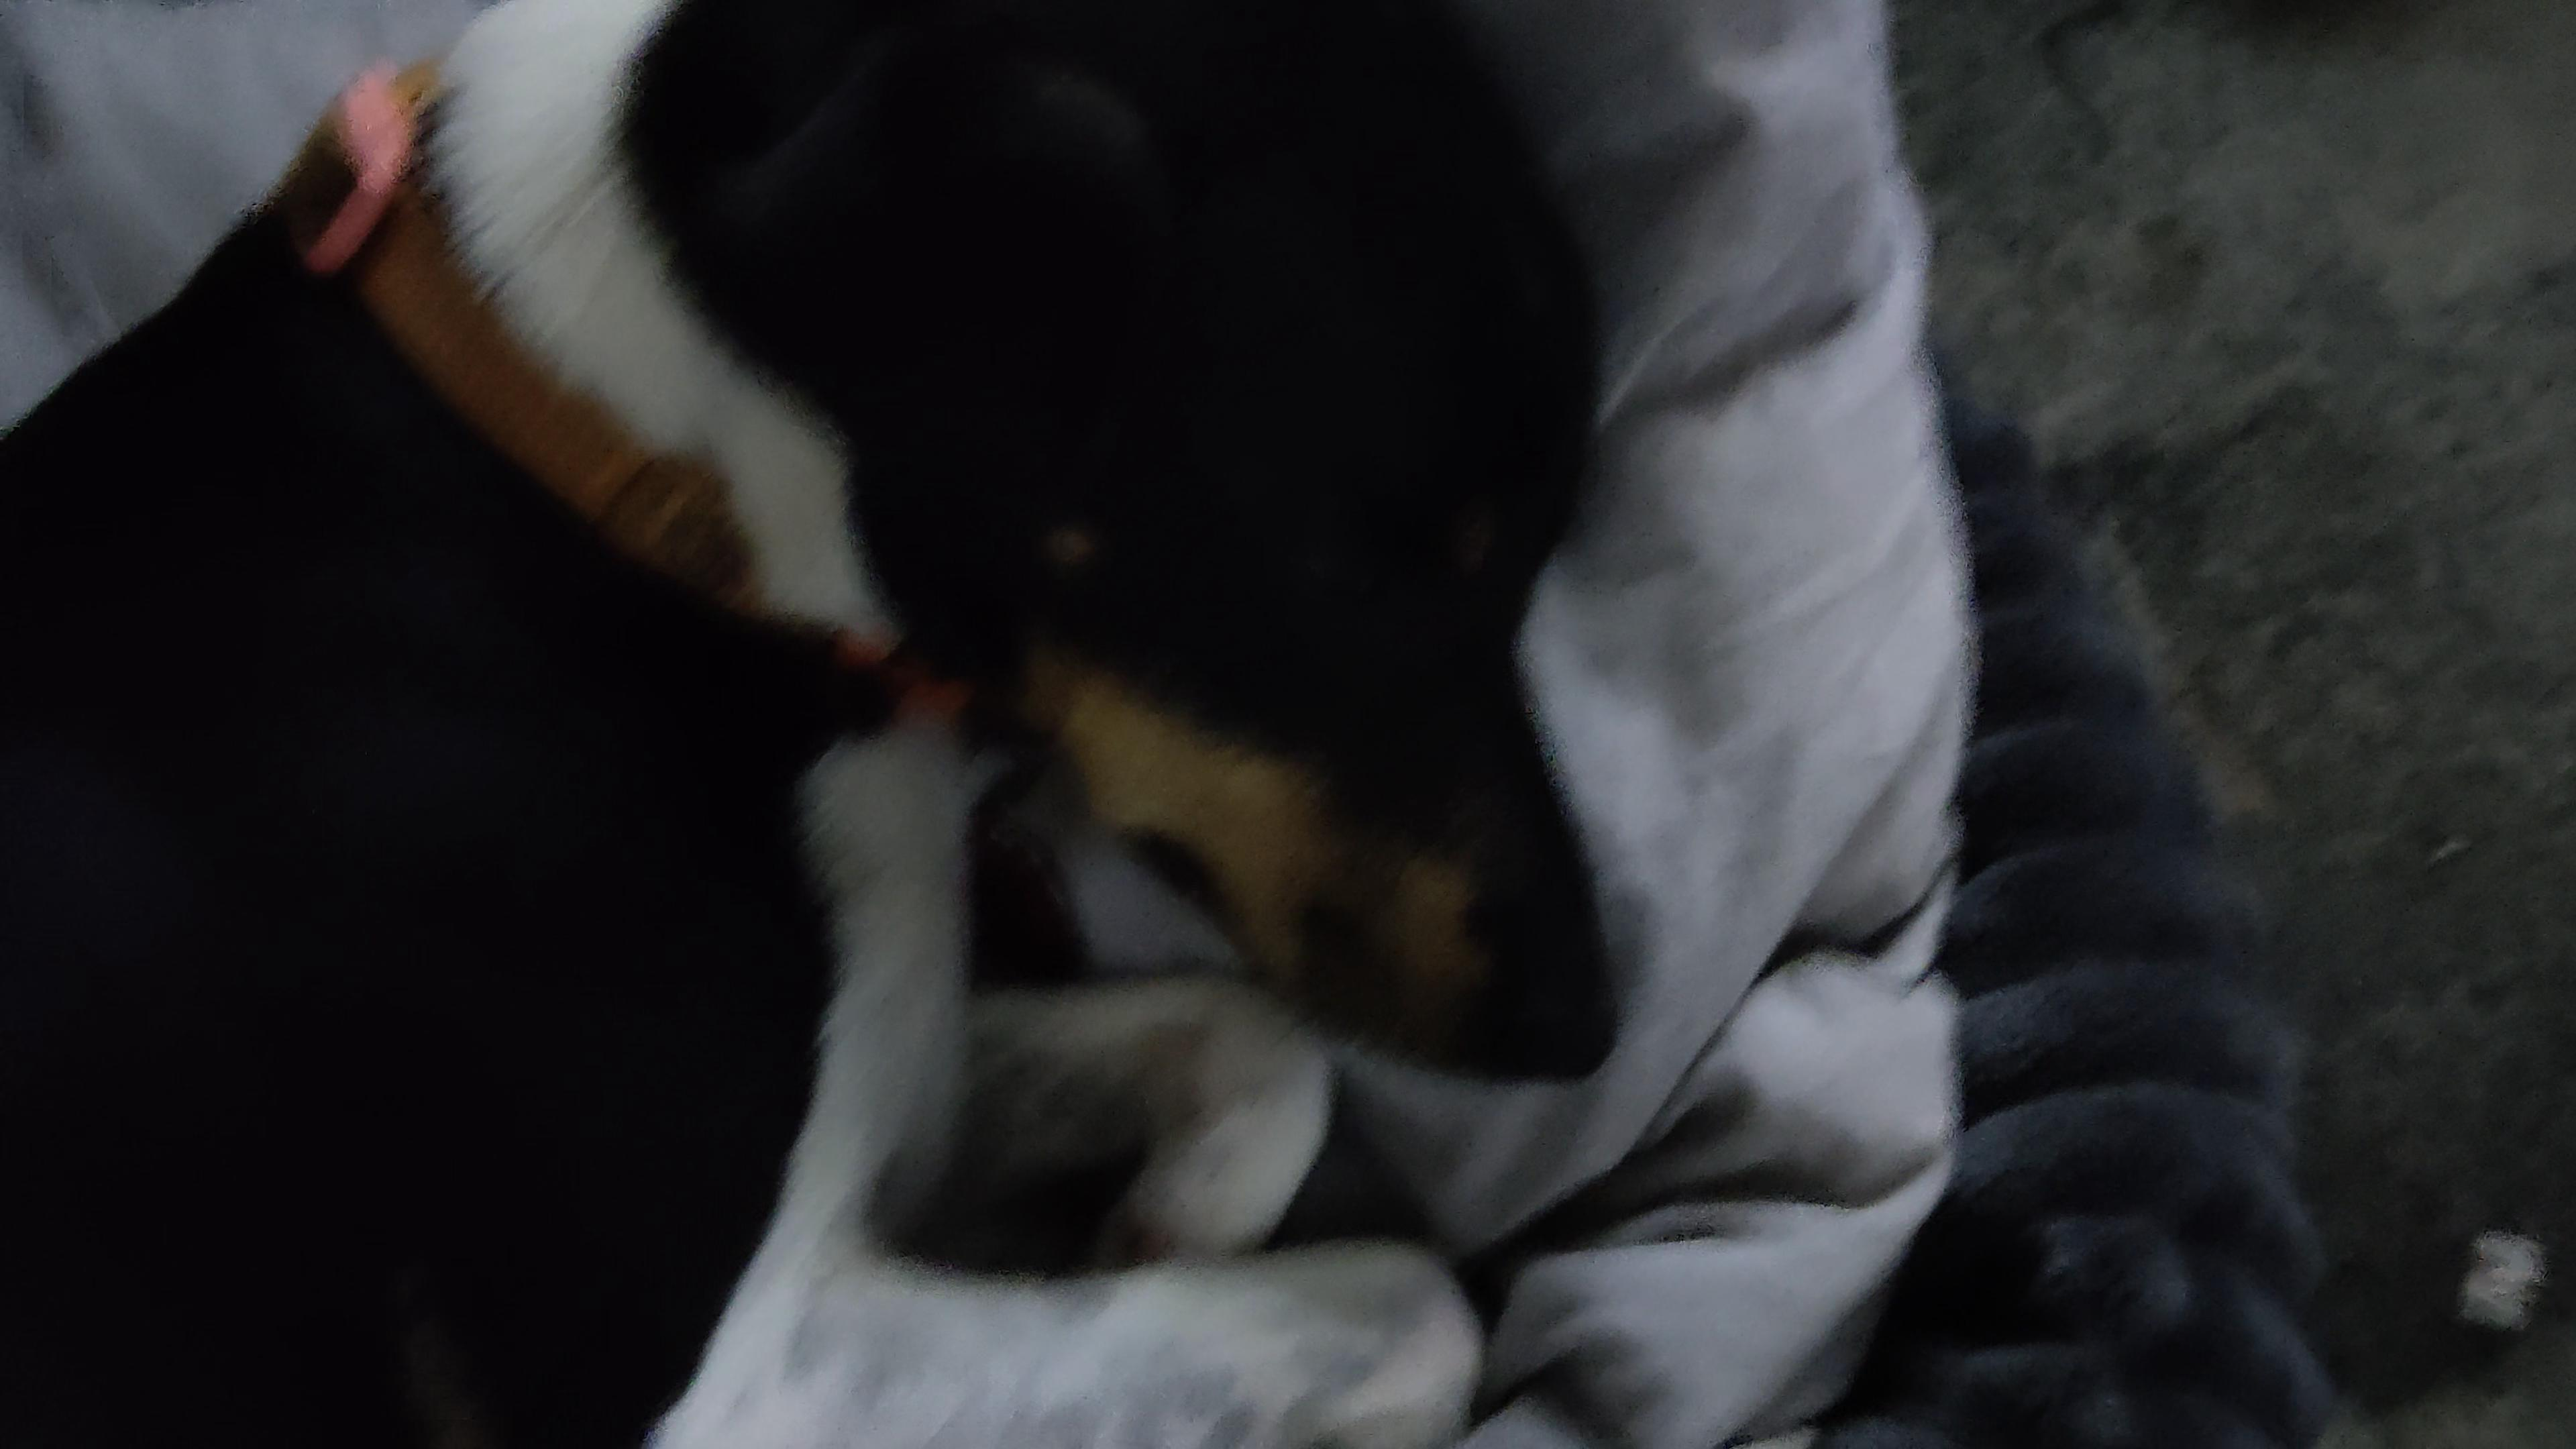Dog: (0, 0, 1640, 1449)
